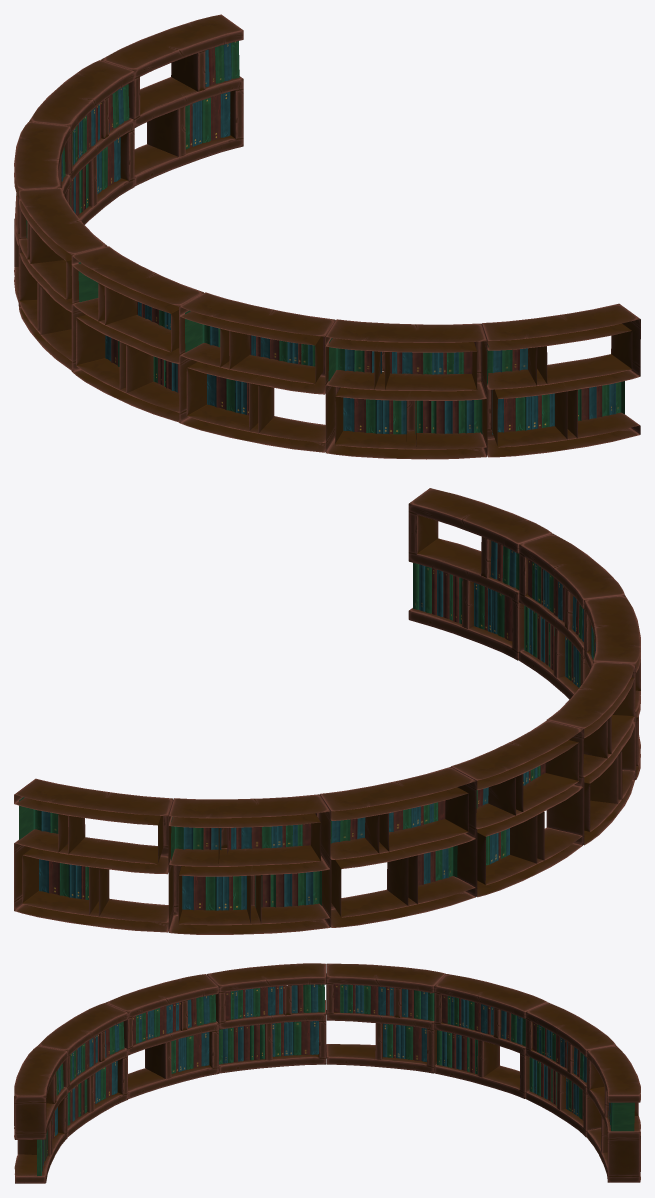
The model's file is SM_BookShelf_02_Full.fbx.
The picture shows the model from 3 angles, top to bottom: view 1: azimuth 30°, elevation 25°; view 2: azimuth 150°, elevation 25°; view 3: azimuth 270°, elevation 25°; orthographic projection. The views are drawn at different scales.
Visible parts, largest first — view 1: SM_BookShelf_02_Full_LOD0; view 2: SM_BookShelf_02_Full_LOD0; view 3: SM_BookShelf_02_Full_LOD0.
Boxes of the visible parts, <box> form: SM_BookShelf_02_Full_LOD0: <box>14,14,640,459</box>; SM_BookShelf_02_Full_LOD0: <box>14,488,640,934</box>; SM_BookShelf_02_Full_LOD0: <box>14,963,640,1183</box>.
Size of what is drawn, in the model's own units: 6.2 by 1.9 by 12.36.
